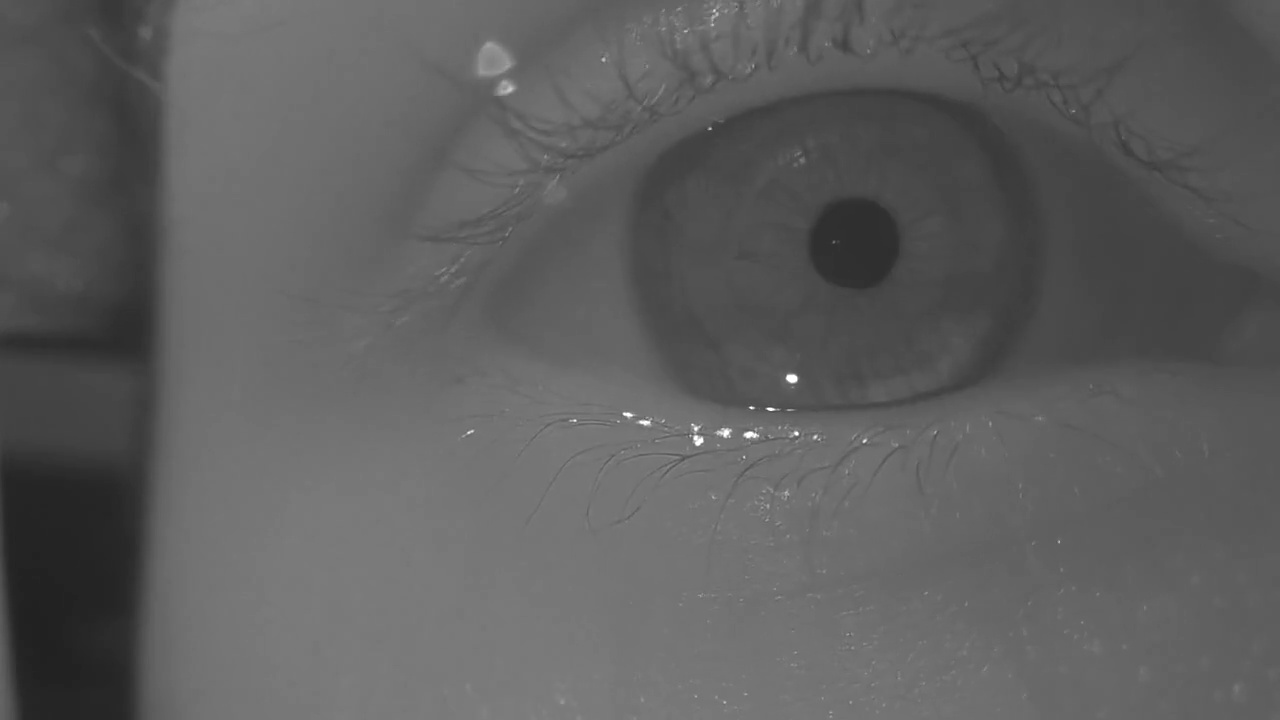pupil: (809, 198, 902, 289)
